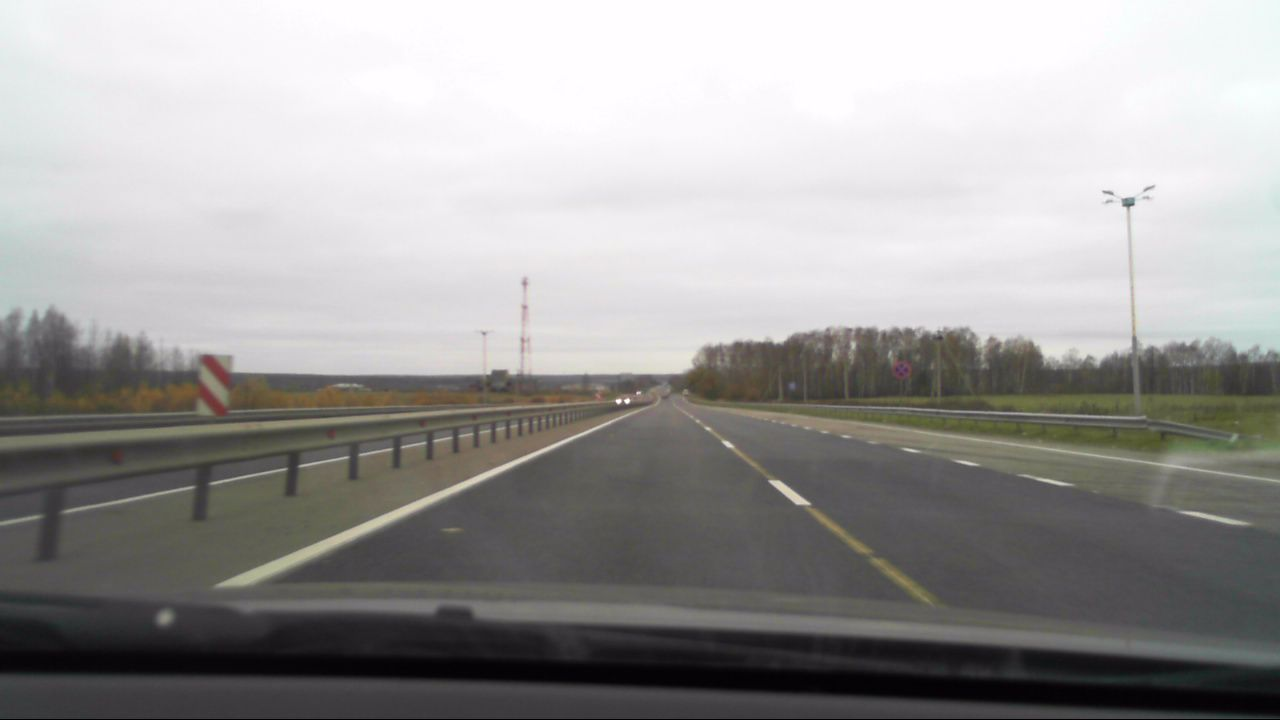No Parking: (890, 360, 911, 381)
